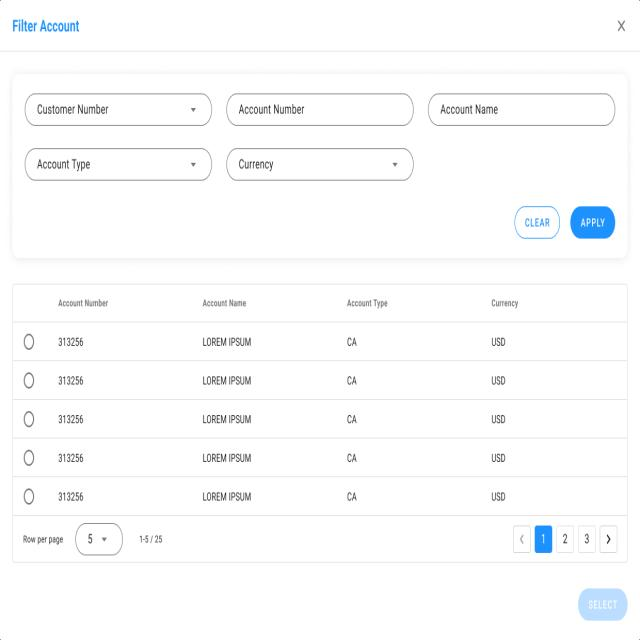QLabel: (8, 14, 82, 38), (587, 593, 618, 616), (523, 212, 552, 231), (578, 213, 607, 230)
VAppBar: (0, 0, 640, 52)
VBtn: (577, 586, 629, 622), (514, 204, 561, 241), (570, 205, 616, 239)
VCard: (11, 72, 630, 260)
VCombobox: (24, 90, 212, 126), (226, 147, 414, 183), (24, 147, 212, 182)
VDataTable: (11, 284, 628, 564)
VIcon: (609, 13, 630, 38)
VTextField: (428, 94, 616, 128), (227, 94, 414, 125)
